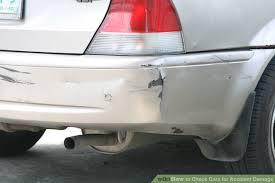rear-bumper-dent: (2, 49, 259, 134)
